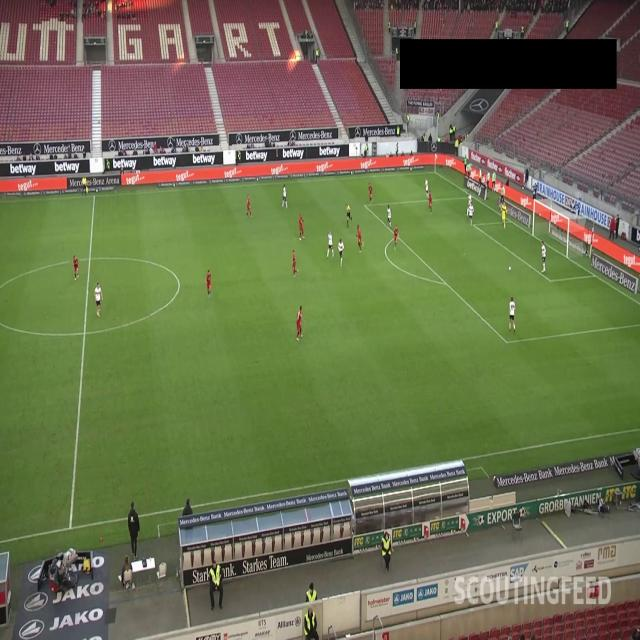ball: (508, 266, 512, 272)
team1: (295, 305, 305, 341), (355, 224, 364, 254), (204, 270, 212, 300), (72, 254, 80, 281), (291, 250, 299, 277), (298, 213, 305, 240), (393, 226, 399, 250), (427, 190, 433, 214), (246, 195, 252, 219), (368, 181, 373, 205)
team2: (94, 281, 103, 317), (509, 295, 516, 332), (280, 182, 288, 210), (540, 240, 546, 274), (327, 231, 334, 259), (386, 204, 392, 228), (338, 238, 343, 266), (468, 203, 474, 226), (424, 178, 429, 198), (467, 193, 472, 211)
